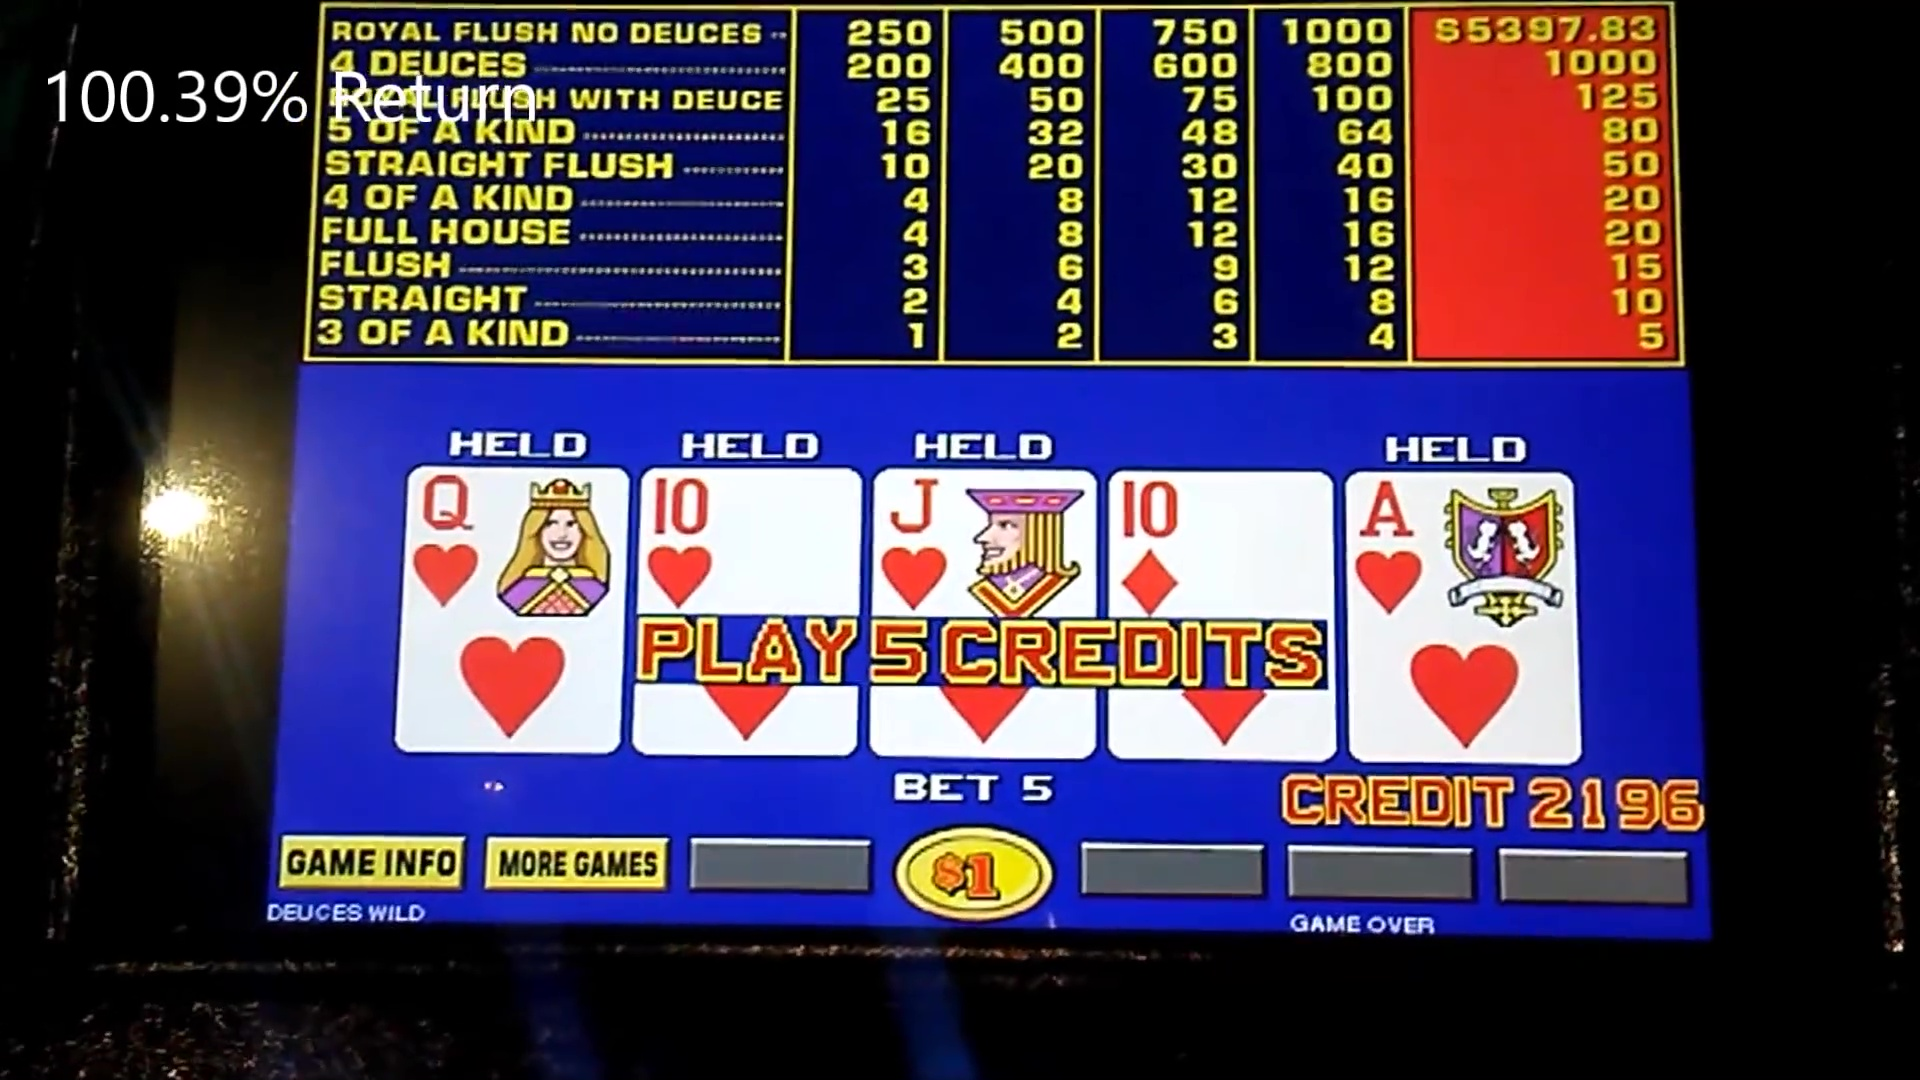AH: (1342, 473, 1567, 618)
JH: (877, 469, 1087, 615)
QH: (411, 468, 626, 613)
TD: (1109, 469, 1332, 616)
TH: (644, 469, 855, 608)
